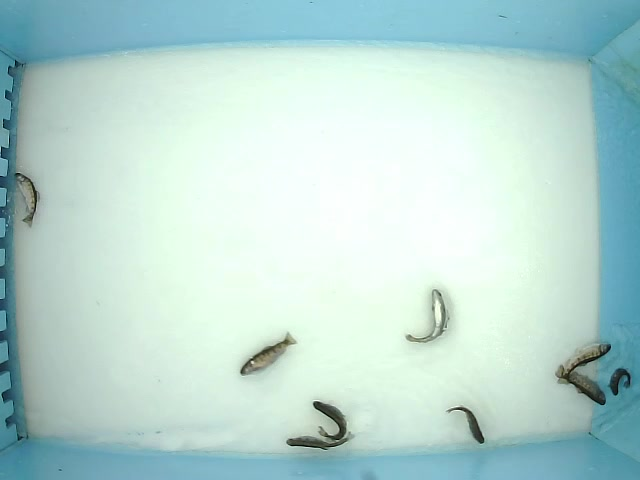fish: (404, 287, 451, 349), (238, 330, 299, 377), (552, 362, 607, 407), (556, 342, 612, 385), (10, 165, 44, 230), (309, 400, 348, 448), (444, 405, 486, 446), (284, 431, 360, 450), (607, 364, 633, 399)
